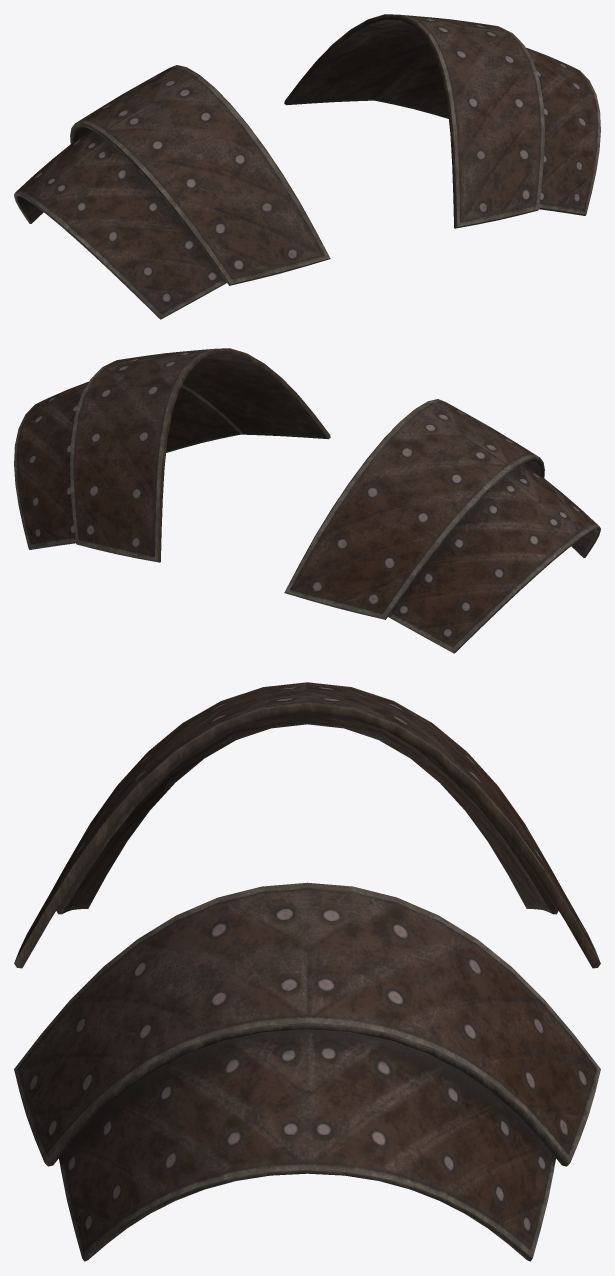
File: sk_dwarf_iron_pauldron_light_b.fbx
3 views of the same model, one above another, from view 1: azimuth 30°, elevation 25°; view 2: azimuth 150°, elevation 25°; view 3: azimuth 270°, elevation 25° (orthographic). The views are drawn at different scales.
Visible parts, largest first — view 1: sk_dwarf_iron_pauldron_light_b; view 2: sk_dwarf_iron_pauldron_light_b; view 3: sk_dwarf_iron_pauldron_light_b.
Part boxes in pixels (box(x1,y1,x2,y2)): sk_dwarf_iron_pauldron_light_b: box(14, 14, 600, 319); sk_dwarf_iron_pauldron_light_b: box(14, 348, 600, 653); sk_dwarf_iron_pauldron_light_b: box(14, 682, 600, 1261).
Size of the model in its own units: 0.6449 by 0.3537 by 0.1945.
Materials: 1 (1 with a texture image).
